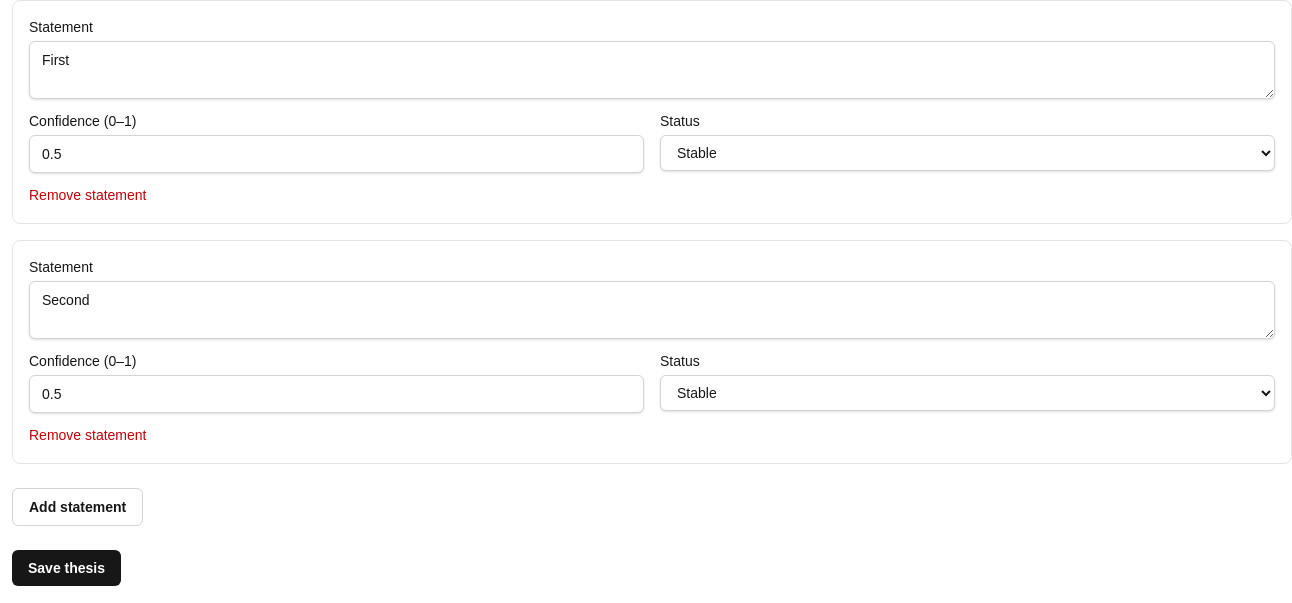
ThesisForm › removes a statement row when 'Remove statement' is clicked, but not the last one
Click the 1st button "Remove statement".
click(88, 195)  # box left=29, top=185, right=146, bottom=205
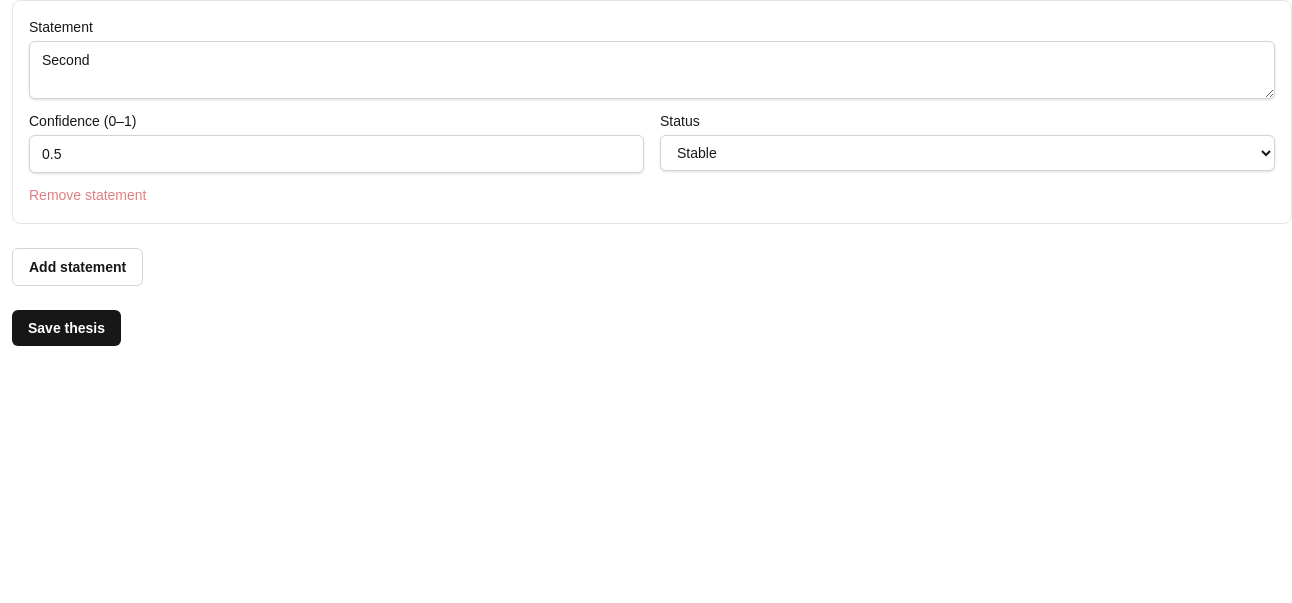
expect the number of text boxes labelled "Statement" is 1: met, box left=29, top=41, right=1275, bottom=99
expect the button "Remove statement" is disabled: met, box left=29, top=185, right=146, bottom=205
